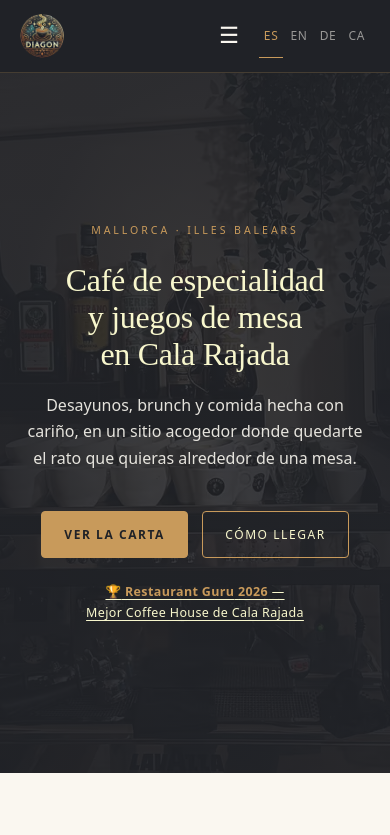
Test: menu movil › se cierra con Escape
This screenshot has width=390, height=835.
Click the button named "Abrir menú" at (229, 36), box [207, 14, 251, 58]
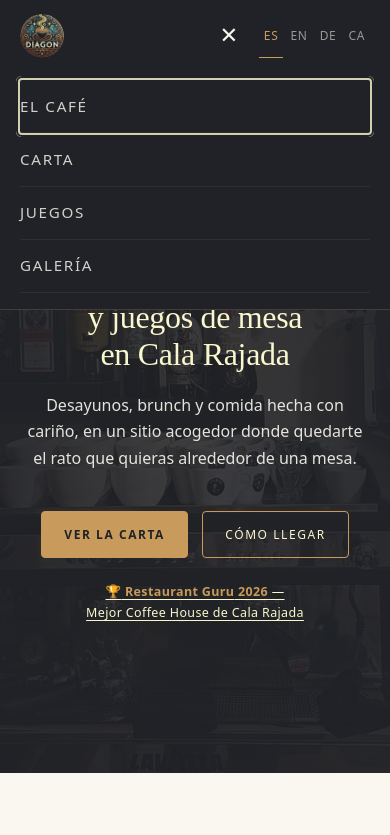
Press Escape
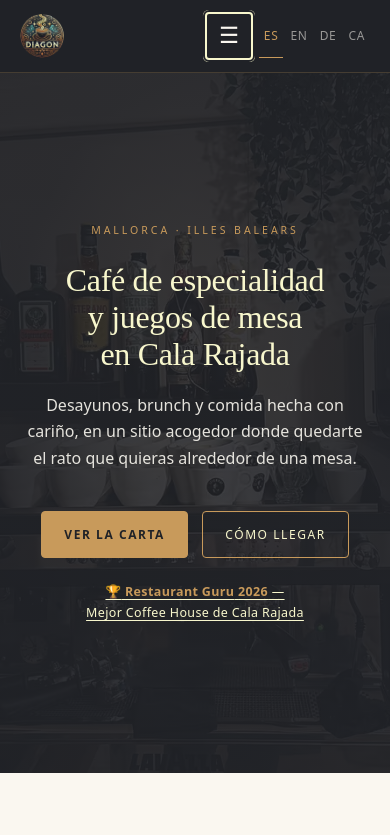
Result: the button named "Abrir menú" is collapsed at [207, 14, 251, 58]
